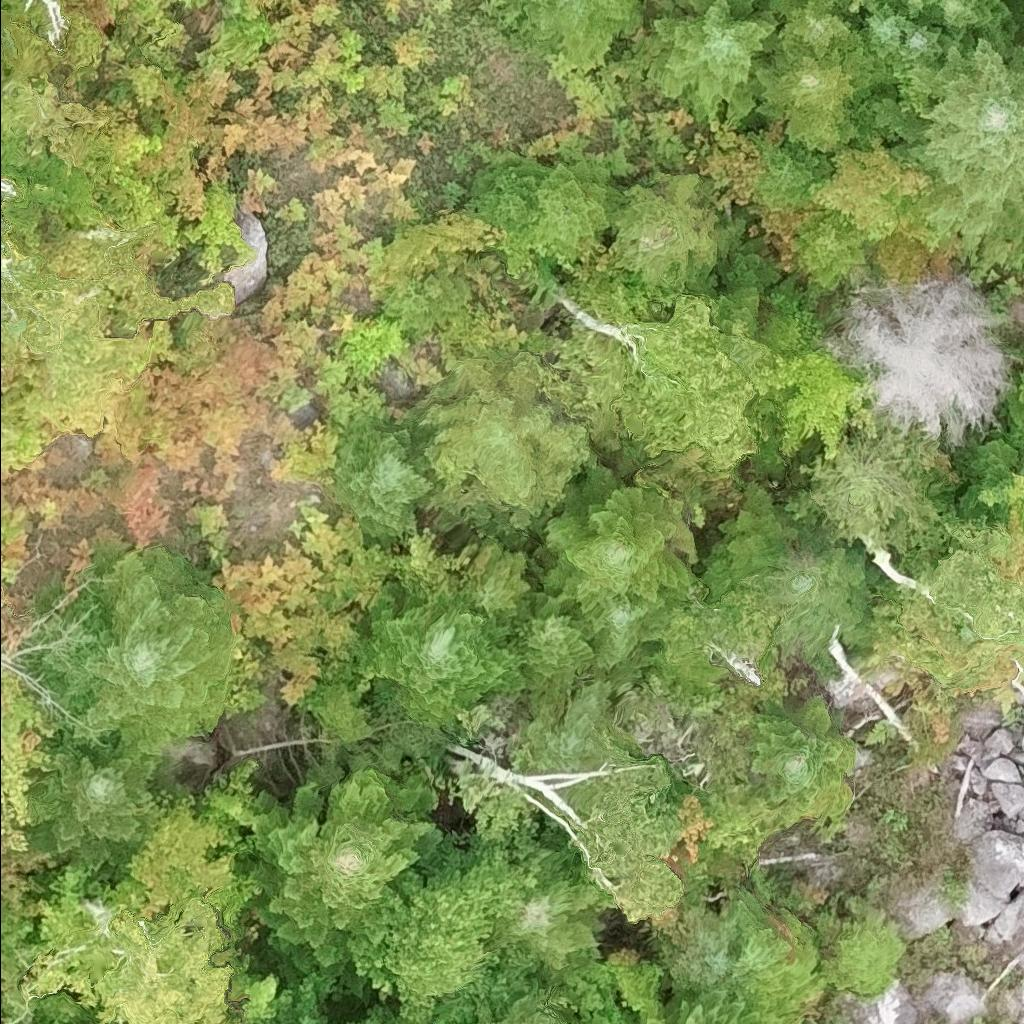crown: (233, 748, 448, 998), (22, 537, 242, 758), (403, 350, 604, 548), (354, 829, 557, 1023), (820, 266, 1023, 447), (702, 471, 880, 672), (889, 37, 1023, 263), (617, 292, 777, 469), (23, 893, 239, 1023), (368, 578, 525, 736), (538, 464, 698, 619), (22, 743, 170, 885), (465, 154, 624, 280), (786, 429, 944, 553), (562, 767, 682, 926), (646, 0, 778, 126), (903, 510, 1023, 647), (605, 171, 734, 290), (754, 42, 889, 154), (485, 853, 614, 969), (118, 797, 241, 916), (809, 138, 933, 242), (741, 700, 854, 814), (766, 347, 875, 460), (335, 418, 436, 538), (502, 587, 600, 692), (725, 903, 817, 1008), (354, 527, 474, 603), (504, 0, 644, 61), (657, 904, 734, 1000), (955, 424, 1023, 525), (578, 596, 665, 673), (462, 534, 533, 624), (791, 211, 870, 290), (108, 456, 175, 548), (767, 0, 863, 63), (547, 958, 637, 1023), (641, 988, 799, 1023), (271, 973, 381, 1023), (712, 213, 781, 292), (755, 140, 837, 205), (923, 0, 1020, 52), (475, 976, 570, 1023), (603, 950, 665, 1022), (0, 835, 56, 901), (893, 18, 952, 79), (362, 997, 469, 1023), (860, 1, 906, 61), (233, 969, 284, 1023), (994, 504, 1023, 585), (837, 0, 891, 28), (890, 0, 939, 21), (1005, 472, 1023, 521), (178, 0, 212, 9), (0, 0, 22, 12), (248, 0, 277, 8), (217, 0, 250, 7), (1019, 363, 1023, 405), (1019, 0, 1023, 33), (0, 229, 1, 240)
